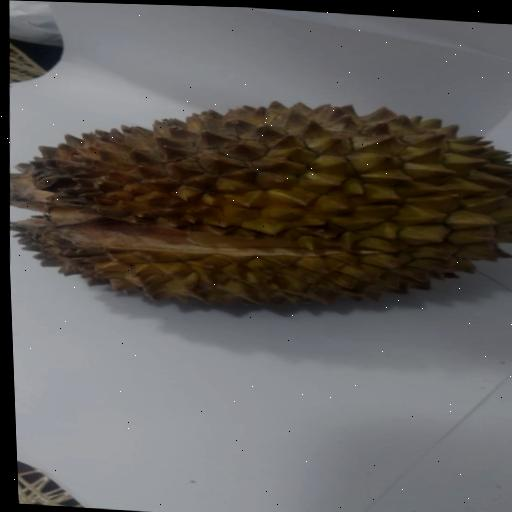rot: (3, 72, 512, 335)
